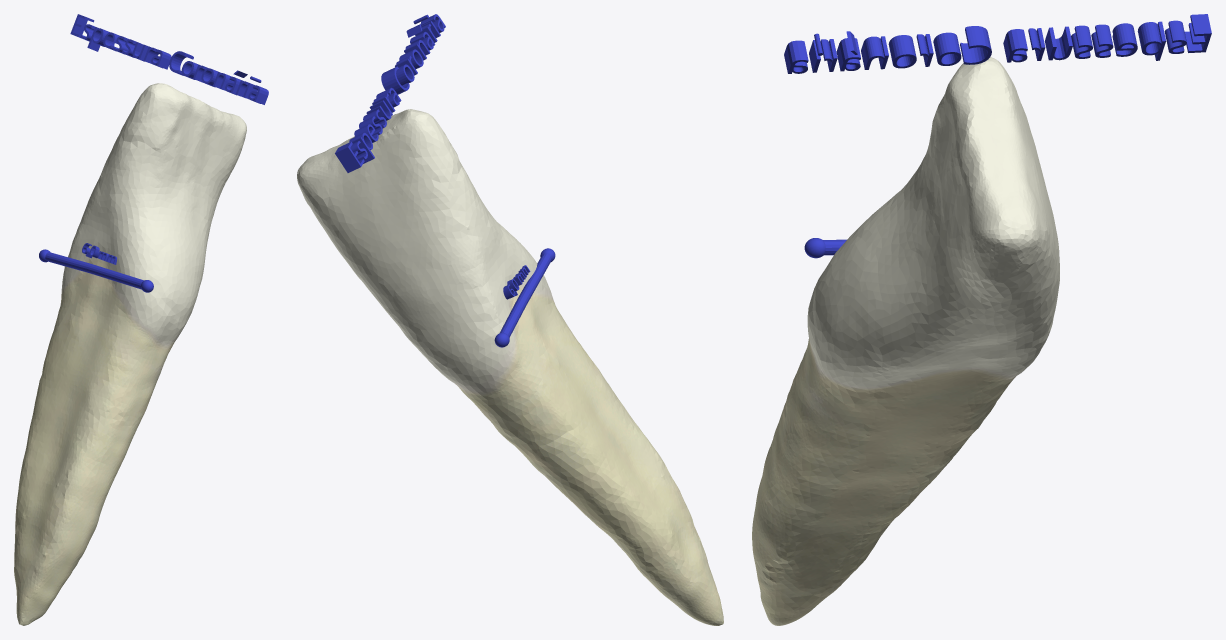
Rendered from 31 - Espessura Coronária.glb.
The picture shows the model from 3 angles, left to right: view 1: azimuth 30°, elevation 25°; view 2: azimuth 150°, elevation 25°; view 3: azimuth 270°, elevation 25°; orthographic projection. The views are drawn at different scales.
Visible parts, largest first — view 1: 3MFMeshParent_0, 3MFMeshParent_1, 3MFMeshParent_3, 3MFMeshParent_2; view 2: 3MFMeshParent_0, 3MFMeshParent_1, 3MFMeshParent_3; view 3: 3MFMeshParent_0, 3MFMeshParent_1.
Boxes of the visible parts, x1,y1,x2,y2 form: 3MFMeshParent_0: [14, 83, 246, 625]; 3MFMeshParent_1: [70, 14, 268, 104]; 3MFMeshParent_3: [45, 252, 143, 289]; 3MFMeshParent_2: [82, 243, 117, 264]; 3MFMeshParent_0: [297, 109, 723, 625]; 3MFMeshParent_1: [335, 14, 445, 172]; 3MFMeshParent_3: [500, 253, 551, 337]; 3MFMeshParent_0: [752, 57, 1059, 625]; 3MFMeshParent_1: [784, 14, 1211, 73].
Bounding box in the file's own units: 0.3575 × 0.5533 × 0.2974.
2 materials, 1 textured.
